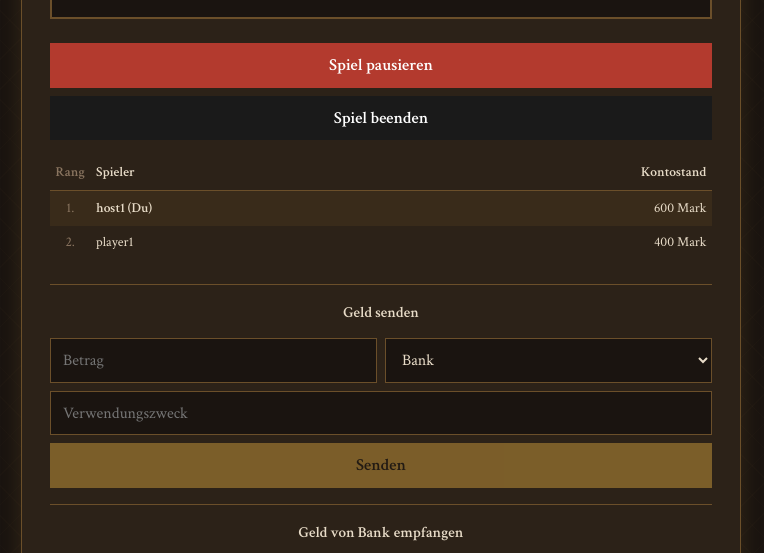
Test: DashboardPage › zeigt Fehler bei fehlgeschlagener Überweisung
(page scrolled)
Expected: the text "Geld senden" is shown, [343,303,419,322]
Type "9999" into the number field with placeholder "Betrag" below "Geld senden" at coordinates (214, 360), box [50,338,377,383]
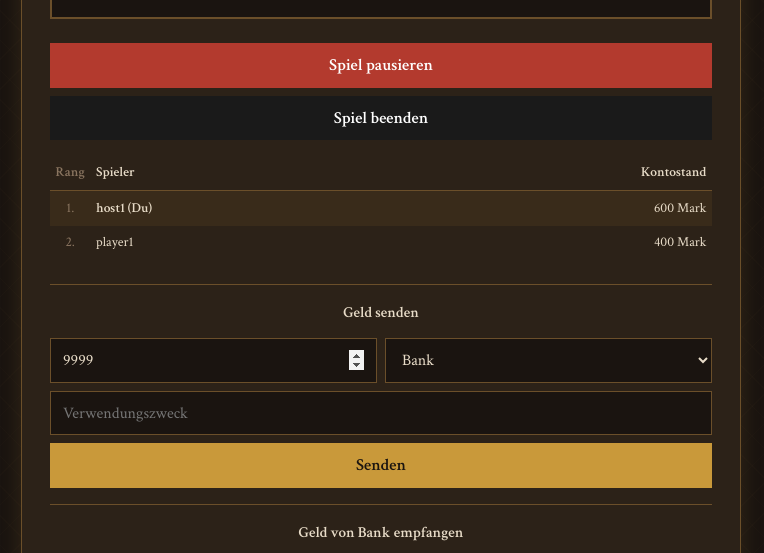
Click the button "Senden" at coordinates (381, 466), box [50,443,712,488]
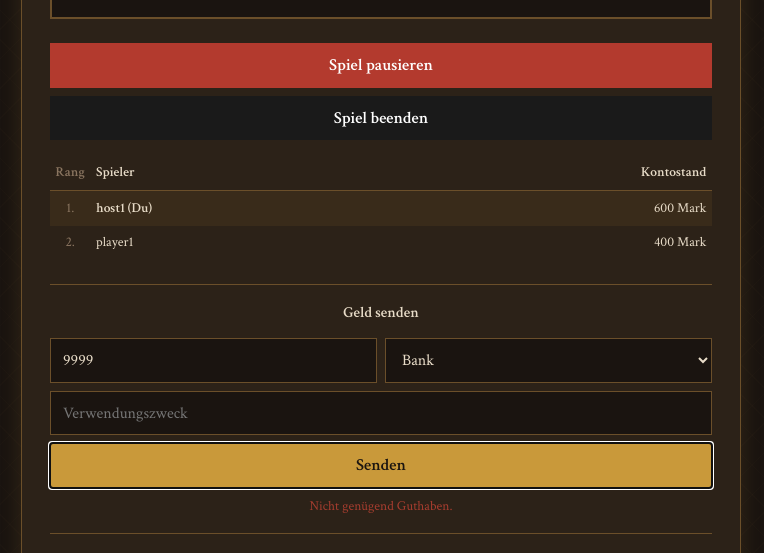
Expected: the text "Nicht genügend Guthaben." is shown, [309,496,453,514]
